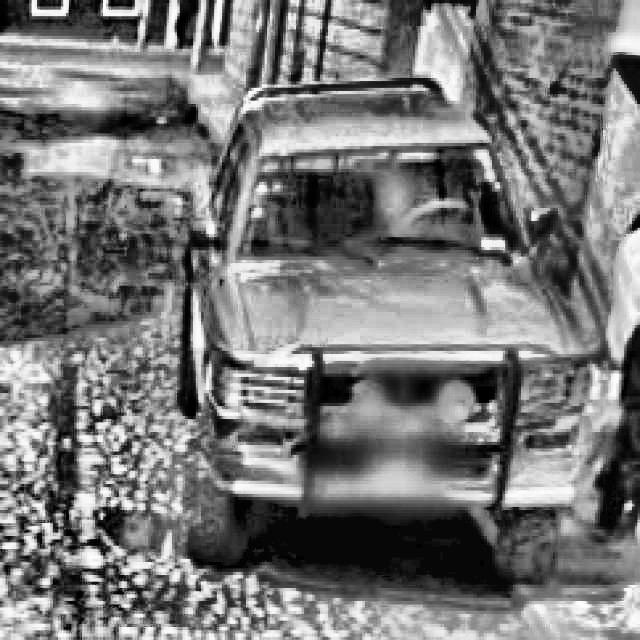carro: (176, 91, 618, 599)
